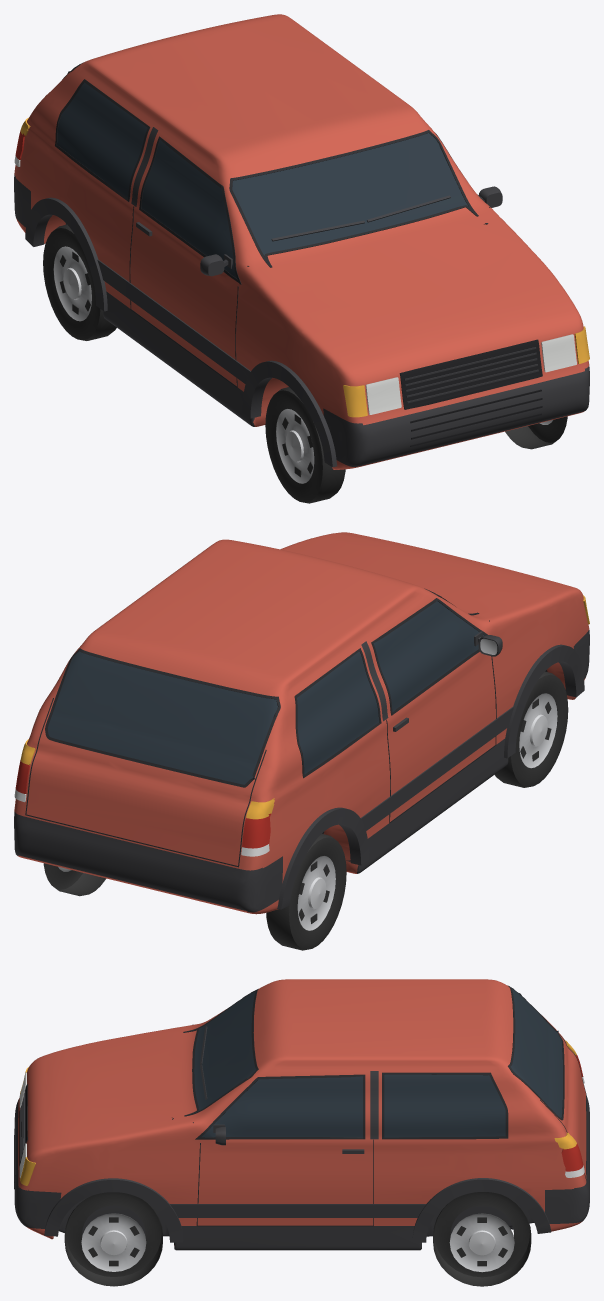
The model's file is panda4x4.glb.
3 views of the same model, one above another, from view 1: azimuth 30°, elevation 25°; view 2: azimuth 150°, elevation 25°; view 3: azimuth 270°, elevation 25° (orthographic). The views are drawn at different scales.
Visible parts, largest first — view 1: paint, glass, trim, wheel_fr, wheel_rr, headlights, wheel_fl, mirrors, front_blinker_right; view 2: paint, glass, trim, wheel_rr, wheel_fr, wheel_rl, taillights; view 3: paint, glass, trim, wheel_rl, wheel_fl, taillights.
Boxes of the visible parts, x1,y1,x2,y2 form: paint: (14, 14, 589, 469); glass: (57, 82, 487, 278); trim: (25, 62, 542, 467); wheel_fr: (265, 387, 345, 503); wheel_rr: (43, 224, 116, 340); headlights: (365, 334, 576, 414); wheel_fl: (505, 416, 567, 449); mirrors: (200, 186, 502, 276); front_blinker_right: (343, 385, 367, 417); paint: (14, 532, 589, 914); glass: (48, 601, 484, 784); trim: (25, 588, 584, 909); wheel_rr: (266, 834, 346, 950); wheel_fr: (494, 671, 568, 787); wheel_rl: (43, 863, 106, 896); taillights: (15, 760, 270, 848); paint: (14, 979, 589, 1250); glass: (172, 988, 562, 1137); trim: (14, 985, 586, 1242); wheel_rl: (433, 1192, 531, 1286); wheel_fl: (64, 1192, 162, 1286); taillights: (561, 1055, 583, 1171).
Size of the model in its own units: 1.68 by 1.45 by 3.39.
